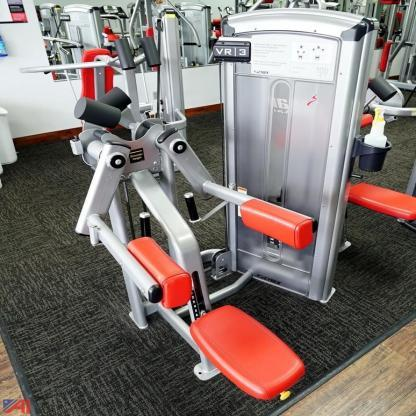lateral raises machine: (69, 84, 319, 405)
